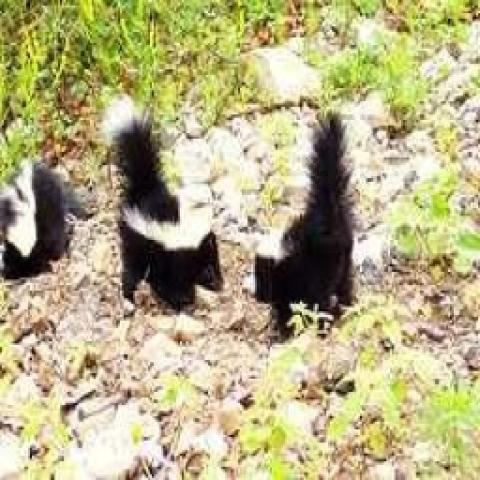small_animal: (96, 92, 227, 311), (254, 113, 357, 338), (0, 160, 74, 281)
